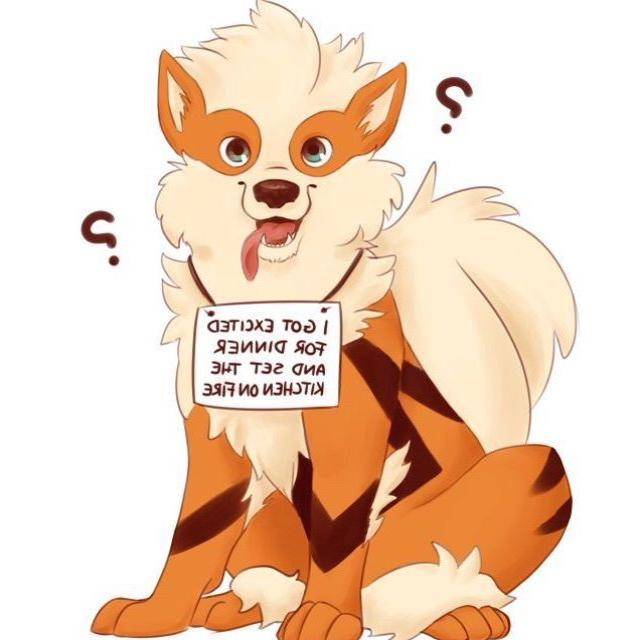Arcanine: (102, 5, 590, 621)
